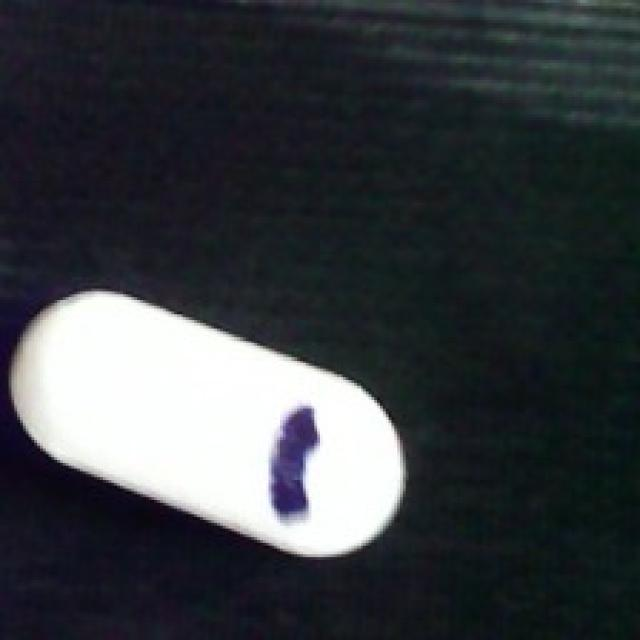defected: (0, 291, 411, 559)
